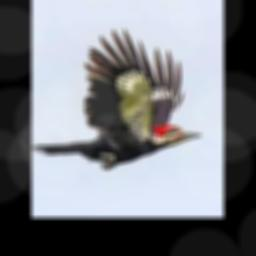Woodpecker: (32, 29, 203, 170)
